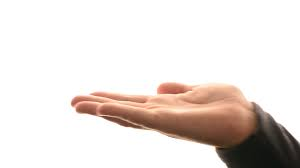hand: (63, 64, 265, 152)
